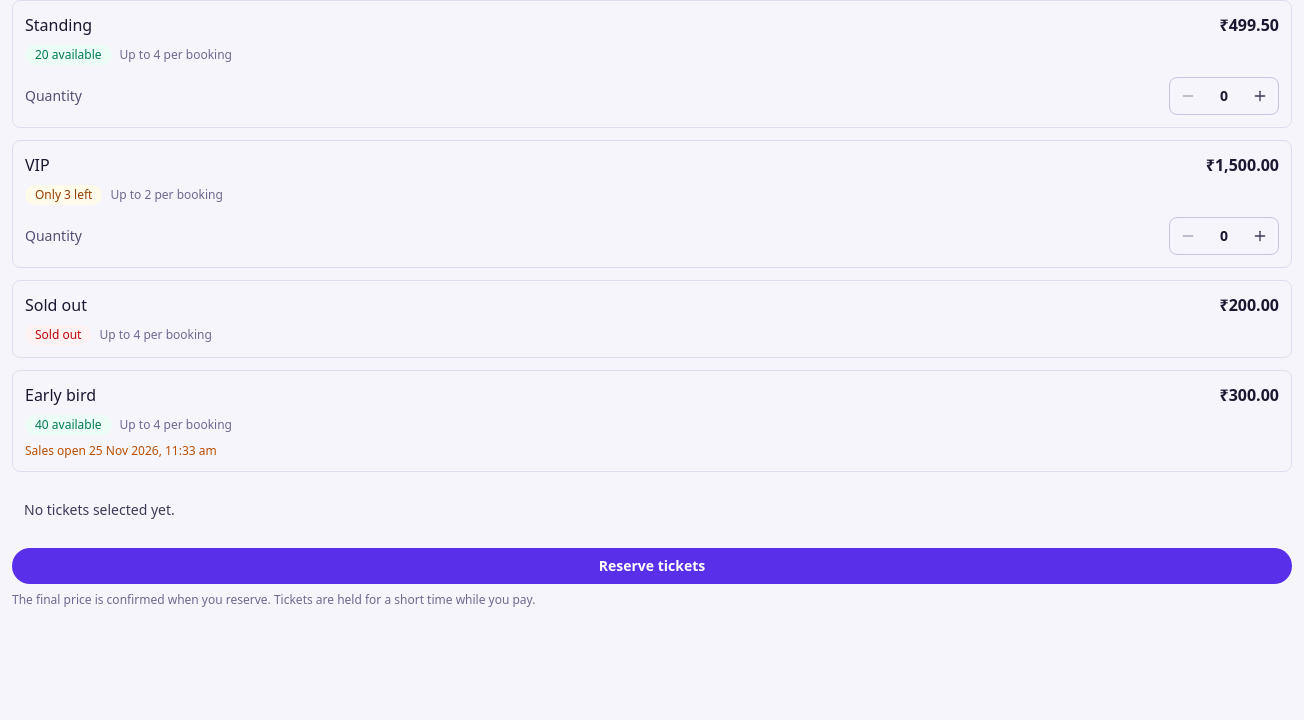
Scenario: BookingPanel › asks for at least one ticket before calling the server
This screenshot has width=1304, height=720.
Click the button "Reserve tickets". click: (652, 566)
box: [12,548,1292,584]
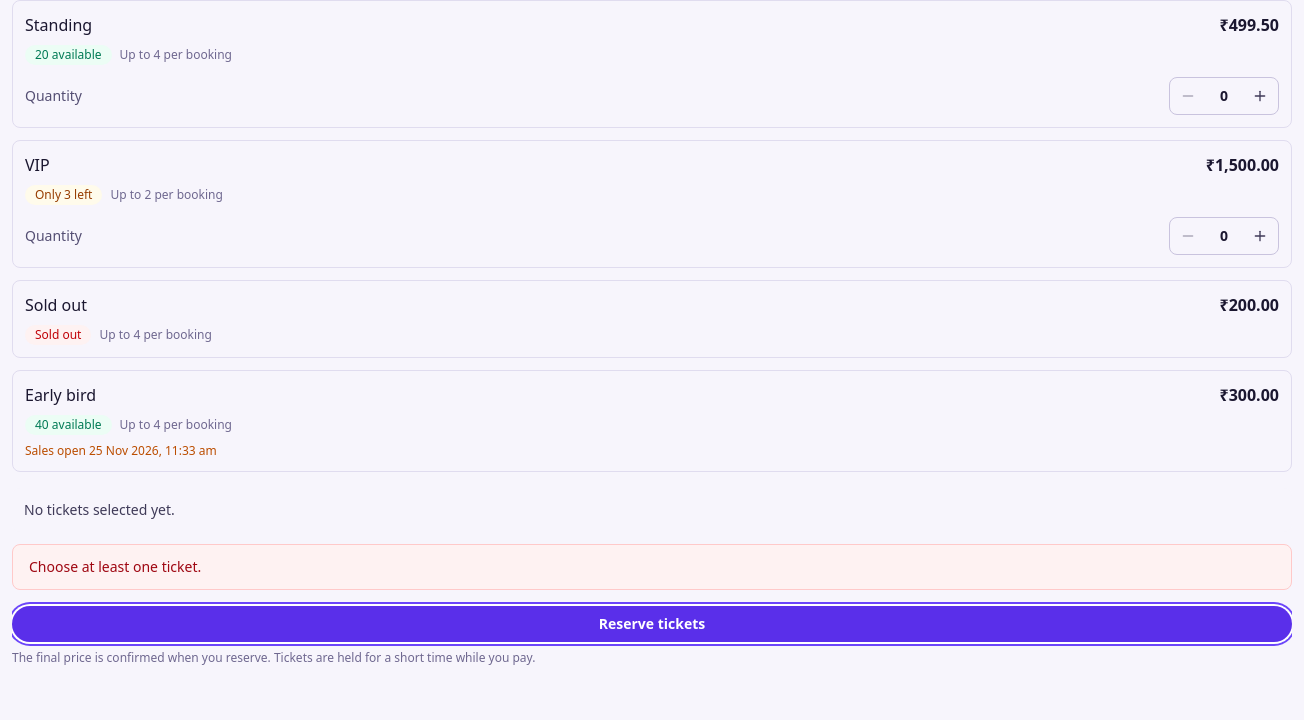
Expected: the message reads "Choose at least one ticket.", [29,557,201,576]
